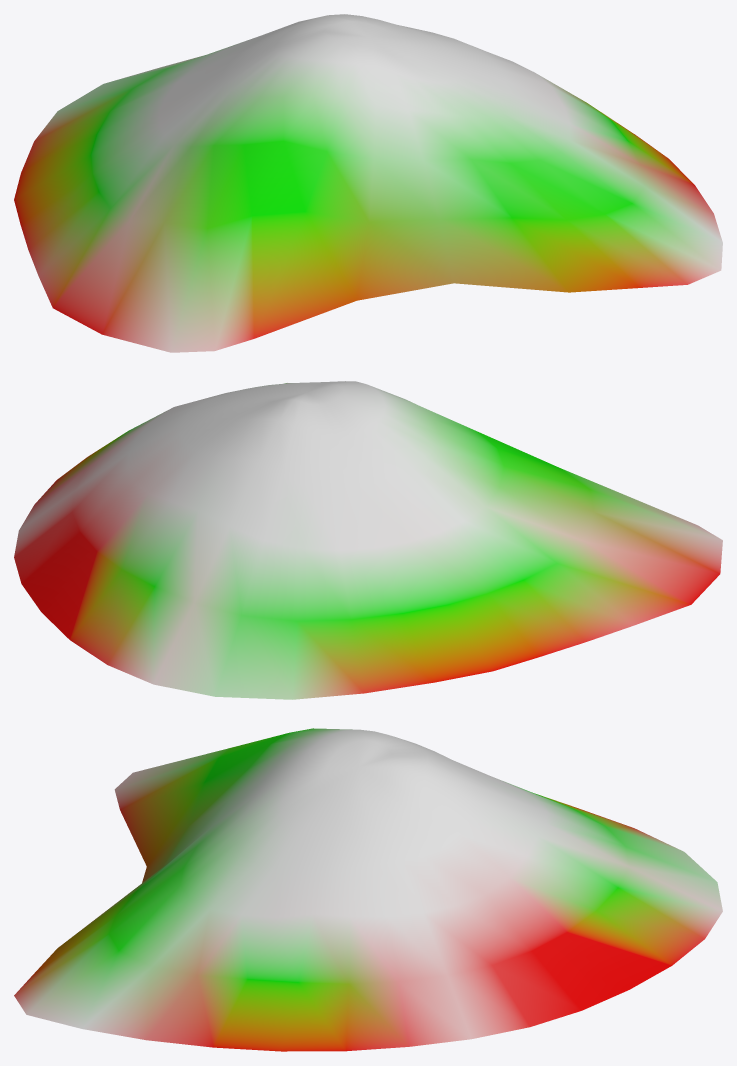
The model's file is Terrain_06.fbx.
3 renders of one model, top to bottom at view 1: azimuth 30°, elevation 25°; view 2: azimuth 150°, elevation 25°; view 3: azimuth 270°, elevation 25°, orthographic.
Visible parts, largest first — view 1: Sphere.007; view 2: Sphere.007; view 3: Sphere.007.
Part boxes in pixels (x1,y1,x2,y2): Sphere.007: (14,14,722,352); Sphere.007: (14,381,722,699); Sphere.007: (14,728,722,1051).
Bounding box in the file's own units: 30.63 × 7.88 × 30.59.
